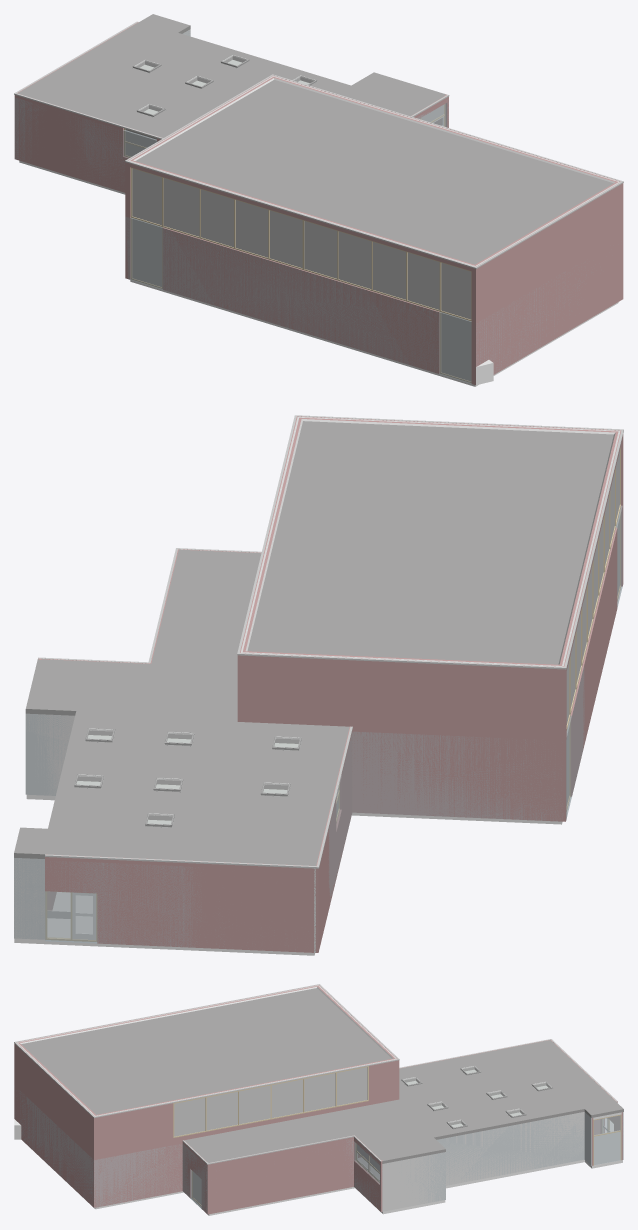
The picture shows the model from 3 angles, top to bottom: view 1: azimuth 30°, elevation 25°; view 2: azimuth 150°, elevation 25°; view 3: azimuth 270°, elevation 25°; orthographic projection. The views are drawn at different scales.
Parts seen in each view (by area): view 1: 3yKL7w3aP50Qs40ukQ6NRl, 02WVcH6YnB2xoHeO0uUznU, 3yKL7w3aP50Qs40ucQ6NIH, 3yKL7w3aP50Qs40ucQ6MHe, 3yKL7w3aP50Qs40ucQ6M0z, 3yKL7w3aP50Qs40ucQ6Nhz, 3yKL7w3aP50Qs40ucQ6MVi, 3yKL7w3aP50Qs40ucQ6Nhu, 02WVcH6YnB2xoHeO0uUzsL, 1dymCOKA14ZQvUftdbFiUc, 3yKL7w3aP50Qs40ucQ6Nhw, 3gDPkgDa99nvcnyPgX8pNu (+30 smaller); view 2: 3yKL7w3aP50Qs40ukQ6NRl, 3yKL7w3aP50Qs40ucQ6NIH, 3yKL7w3aP50Qs40ucQ6Nhx, 3yKL7w3aP50Qs40ucQ6MU7, 3yKL7w3aP50Qs40ucQ6MGQ, 02WVcH6YnB2xoHeO0uUznU, 02WVcH6YnB2xoHeO0uUznB, 3yKL7w3aP50Qs40ucQ6MHe, 3yKL7w3aP50Qs40ucQ6MVi, 1dymCOKA14ZQvUftdbFiUc, 3yKL7w3aP50Qs40ucQ6M6K, 02WVcH6YnB2xoHeO0uUzml (+12 smaller); view 3: 3yKL7w3aP50Qs40ukQ6NRl, 3yKL7w3aP50Qs40ucQ6NIH, 02WVcH6YnB2xoHeO0uUznB, 3yKL7w3aP50Qs40ucQ6M3L, 3yKL7w3aP50Qs40ucQ6MRv, 02WVcH6YnB2xoHeO0uUznU, 3yKL7w3aP50Qs40ucQ6Nhw, 3yKL7w3aP50Qs40ucQ6M1x, 3yKL7w3aP50Qs40ucQ6M0z, 3yKL7w3aP50Qs40ucQ6Nhz, 3yKL7w3aP50Qs40ucQ6M5$, 02WVcH6YnB2xoHeO0uUzml (+25 smaller).
Boxes of the visible parts, bbox=[...] form: 3yKL7w3aP50Qs40ukQ6NRl: bbox=[135, 79, 613, 264]; 02WVcH6YnB2xoHeO0uUznU: bbox=[125, 217, 579, 383]; 3yKL7w3aP50Qs40ucQ6NIH: bbox=[17, 14, 446, 139]; 3yKL7w3aP50Qs40ucQ6MHe: bbox=[125, 217, 477, 385]; 3yKL7w3aP50Qs40ucQ6M0z: bbox=[477, 238, 622, 374]; 3yKL7w3aP50Qs40ucQ6Nhz: bbox=[475, 182, 622, 322]; 3yKL7w3aP50Qs40ucQ6MVi: bbox=[14, 92, 160, 192]; 3yKL7w3aP50Qs40ucQ6Nhu: bbox=[125, 160, 477, 323]; 02WVcH6YnB2xoHeO0uUzsL: bbox=[86, 109, 157, 184]; 1dymCOKA14ZQvUftdbFiUc: bbox=[19, 160, 618, 386]; 3yKL7w3aP50Qs40ucQ6Nhw: bbox=[273, 75, 623, 237]; 3gDPkgDa99nvcnyPgX8pNu: bbox=[125, 160, 476, 268]; 3yKL7w3aP50Qs40ukQ6NRl: bbox=[247, 421, 613, 664]; 3yKL7w3aP50Qs40ucQ6NIH: bbox=[14, 549, 349, 865]; 3yKL7w3aP50Qs40ucQ6Nhx: bbox=[237, 651, 563, 740]; 3yKL7w3aP50Qs40ucQ6MU7: bbox=[45, 854, 315, 952]; 3yKL7w3aP50Qs40ucQ6MGQ: bbox=[352, 731, 563, 821]; 02WVcH6YnB2xoHeO0uUznU: bbox=[352, 505, 622, 821]; 02WVcH6YnB2xoHeO0uUznB: bbox=[14, 735, 171, 943]; 3yKL7w3aP50Qs40ucQ6MHe: bbox=[563, 504, 623, 821]; 3yKL7w3aP50Qs40ucQ6MVi: bbox=[311, 727, 352, 952]; 1dymCOKA14ZQvUftdbFiUc: bbox=[14, 794, 562, 955]; 3yKL7w3aP50Qs40ucQ6M6K: bbox=[25, 713, 74, 795]; 02WVcH6YnB2xoHeO0uUzml: bbox=[25, 713, 71, 795]; 3yKL7w3aP50Qs40ukQ6NRl: bbox=[21, 988, 391, 1114]; 3yKL7w3aP50Qs40ucQ6NIH: bbox=[184, 1040, 623, 1163]; 02WVcH6YnB2xoHeO0uUznB: bbox=[437, 1086, 623, 1184]; 3yKL7w3aP50Qs40ucQ6M3L: bbox=[206, 1137, 353, 1214]; 3yKL7w3aP50Qs40ucQ6MRv: bbox=[437, 1112, 584, 1185]; 02WVcH6YnB2xoHeO0uUznU: bbox=[14, 1086, 182, 1207]; 3yKL7w3aP50Qs40ucQ6Nhw: bbox=[93, 1058, 397, 1159]; 3yKL7w3aP50Qs40ucQ6M1x: bbox=[93, 1143, 182, 1207]; 3yKL7w3aP50Qs40ucQ6M0z: bbox=[15, 1086, 93, 1206]; 3yKL7w3aP50Qs40ucQ6Nhz: bbox=[15, 1043, 95, 1159]; 3yKL7w3aP50Qs40ucQ6M5$: bbox=[382, 1152, 445, 1211]; 02WVcH6YnB2xoHeO0uUzml: bbox=[354, 1141, 445, 1210].
Bounding box in the file's own units: 21.31 × 6.66 × 39.28.
